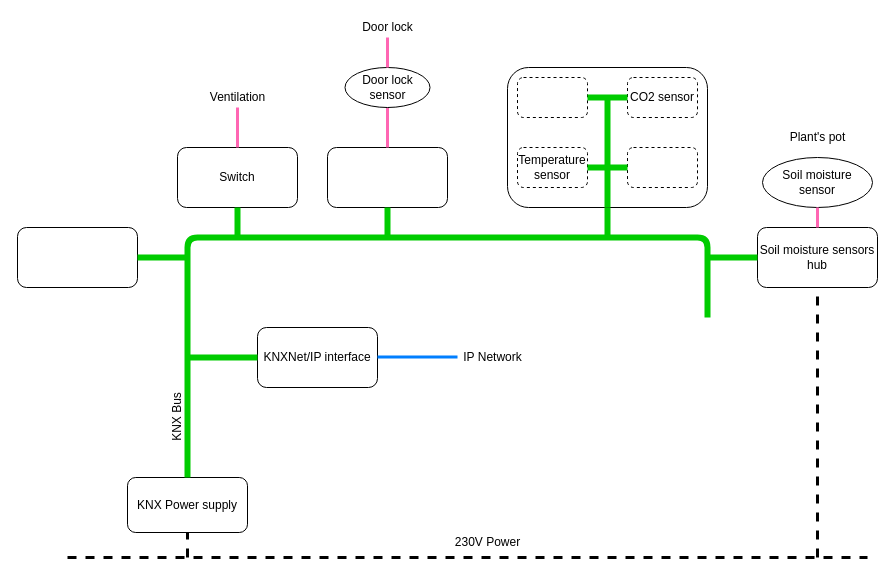
Image size: 895x577. Some labels were removed from this diagram. Here are the shapes that lost their labels. From the top down, the centre of each, then its label:
At point 552,97: "Presence detector".
At point 387,177: "Binary input".
At point 662,167: "Humidity sensor".
At point 77,257: "KNX USB Interface".
